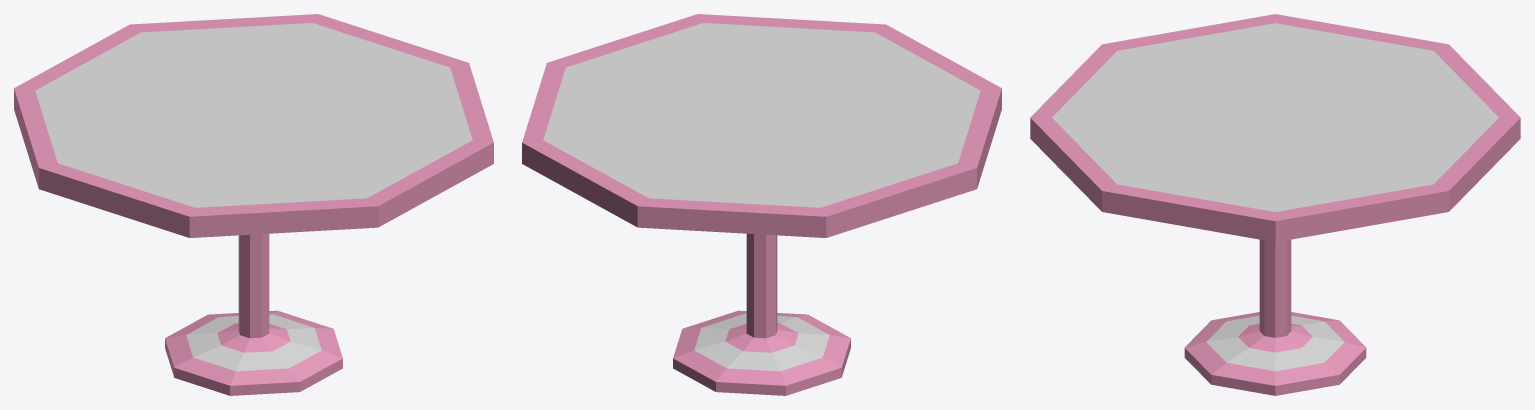
The model's file is Stol.fbx.
The picture shows the model from 3 angles, left to right: view 1: azimuth 30°, elevation 25°; view 2: azimuth 150°, elevation 25°; view 3: azimuth 270°, elevation 25°; orthographic projection.
Parts seen in each view (by area): view 1: Cylinder; view 2: Cylinder; view 3: Cylinder.
Boxes of the visible parts, x1,y1,x2,y2 form: Cylinder: (14, 14, 493, 395); Cylinder: (522, 14, 1001, 395); Cylinder: (1030, 14, 1520, 395).
Size of the model in its own units: 578 by 312 by 578.
